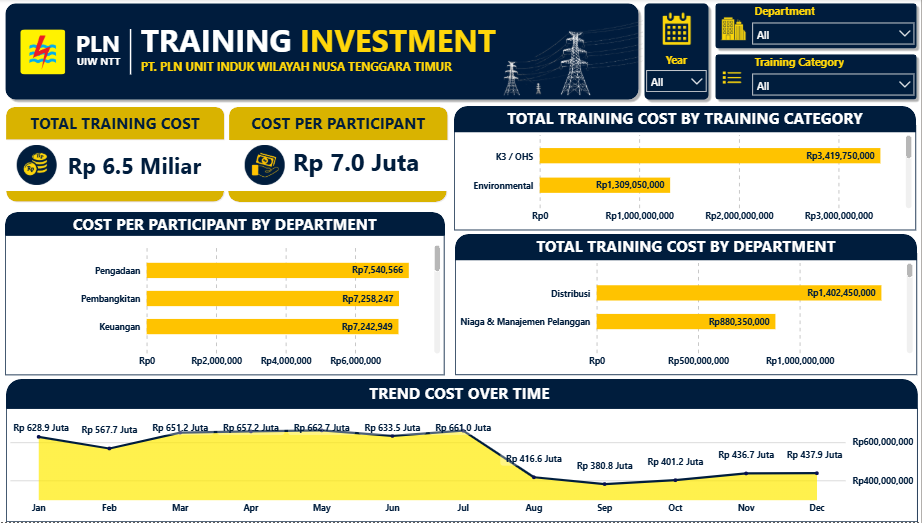

This screenshot's page, from the dashboard's own definition file:
{"tool":"powerbi","page":{"name":"Training Investment","canvas":[1280,720],"ordinal":4},"visuals":[{"type":"shape","box":[13.8,0,883.6,144.5],"z":0},{"type":"shape","box":[893.2,0,100.5,144.5],"z":0,"group":"g6"},{"type":"shape","box":[20.6,523.4,1255.2,41.4],"z":0,"group":"g16"},{"type":"image","box":[550.1,151.7,62.4,37.2],"z":1000},{"type":"textbox","box":[30.7,522.8,1229.1,53.7],"z":1000,"group":"g16"},{"type":"image","box":[38.5,41.3,66.1,63.3],"z":2000},{"type":"textbox","box":[111.5,33,83.5,52.6],"z":3000,"group":"g10"},{"type":"group","id":"g1","title":"Group 3","box":[17.8,147.6,309.6,133.5],"z":3000},{"type":"textbox","box":[112.3,69.8,75.2,36.8],"z":4000,"group":"g10"},{"type":"group","id":"g2","title":"Group 3","box":[324.7,147.6,310.2,133.5],"z":4000},{"type":"image","box":[703.3,2.8,194.1,154.2],"z":5000},{"type":"shape","box":[184.4,41.5,15.3,62.6],"z":5000,"group":"g12"},{"type":"textbox","box":[200.3,22,567.1,70.2],"z":6000,"group":"g12"},{"type":"cardVisual","title":"Total Employee","fields":{"Data":["FactTraining.CPP"]},"box":[385.8,172.1,268.8,100],"z":6000},{"type":"textbox","box":[200.5,76.7,442.6,45.7],"z":7000,"group":"g12"},{"type":"textbox","box":[325.1,151.7,307.1,49.5],"z":7000},{"type":"clusteredBarChart","fields":{"Y":["Sum(FactTraining.TrainingCost)"],"Category":["DimTraining.TrainingCategory"]},"box":[638,174,635.9,144.5],"z":8000,"group":"g4"},{"type":"cardVisual","title":"Total Employee","fields":{"Data":["FactTraining.Total Training Cost"]},"box":[76,176.2,256,100.5],"z":8000},{"type":"clusteredBarChart","fields":{"Category":["DimEmployee.Department"],"Y":["FactTraining.Cost per Participant"]},"box":[19.3,324.5,604.8,193],"z":8000,"group":"g3"},{"type":"shape","box":[17.8,187.4,309.6,78.2],"z":9000,"group":"g1"},{"type":"shape","box":[324.7,187.5,310.2,78.5],"z":9000,"group":"g2"},{"type":"clusteredBarChart","fields":{"Category":["DimEmployee.Department"],"Y":["Sum(FactTraining.TrainingCost)"]},"box":[638.6,349.6,635.9,167.9],"z":9000},{"type":"group","id":"g3","title":"Group 2","box":[19.3,290.4,605.6,227.1],"z":10000},{"type":"image","box":[33.8,201.1,57.6,54.9],"z":11000},{"type":"group","id":"g4","title":"Group 2","box":[637.5,144.4,636.4,174.1],"z":12000},{"type":"shape","box":[19.8,147.6,303.4,48],"z":12000,"group":"g1"},{"type":"shape","box":[326.7,147.6,304,48.2],"z":12000,"group":"g2"},{"type":"group","id":"g5","title":"Group 7","box":[991,0,289,74.3],"z":13000,"group":"g8"},{"type":"textbox","box":[18.2,151.7,306.5,49.4],"z":13000},{"type":"group","id":"g6","title":"Group 5","box":[892,0,101.7,154.2],"z":14000},{"type":"group","id":"g7","title":"Group 7","box":[991,69.9,289,74.6],"z":14000,"group":"g8"},{"type":"group","id":"g8","title":"Group 6","box":[991,0,289,144.5],"z":15000},{"type":"image","box":[992.4,17.2,58.6,48.6],"z":15000,"group":"g8"},{"type":"shape","box":[324.7,263.2,304,17.9],"z":15000,"group":"g2"},{"type":"shape","box":[18.6,263.3,302.9,17.8],"z":15000,"group":"g1"},{"type":"group","id":"g9","title":"Group 4","box":[991,0,289,74.3],"z":16000,"group":"g13"},{"type":"image","box":[900.2,8.3,86.7,64.7],"z":16000,"group":"g6"},{"type":"group","id":"g10","title":"Group 9","box":[111.5,33,84,74.3],"z":16000},{"type":"group","id":"g11","title":"Group 4","box":[991,69.9,289,74.3],"z":16000,"group":"g14"},{"type":"shape","box":[637.5,147.2,635.9,36.5],"z":16000,"group":"g4"},{"type":"shape","box":[19.3,292.9,605.6,32.8],"z":16000,"group":"g3"},{"type":"group","id":"g12","title":"Group 10","box":[184.4,22,583.6,100.5],"z":17000},{"type":"image","box":[1001.9,81,36.4,53.9],"z":17000,"group":"g8"},{"type":"textbox","box":[638.8,144.4,633.4,50.6],"z":17000,"group":"g4"},{"type":"textbox","box":[20.5,290.4,603.2,45.4],"z":17000,"group":"g3"},{"type":"shape","box":[638.1,323.1,635.9,36.5],"z":18000},{"type":"shape","box":[991,0,289,74.3],"z":19000,"group":"g9"},{"type":"shape","box":[991,69.9,289,74.3],"z":19000,"group":"g11"},{"type":"textbox","box":[639.4,320.2,633.4,50.6],"z":19000},{"type":"group","id":"g13","title":"Group 8","box":[991,0,289,74.3],"z":19001,"group":"g5"},{"type":"group","id":"g14","title":"Group 8","box":[991,69.9,289,74.3],"z":19001,"group":"g7"},{"type":"slicer","fields":{"Values":["DimEmployee.Department"]},"box":[1038.4,5.2,238,58],"z":20000,"group":"g9"},{"type":"slicer","fields":{"Values":["DimTraining.TrainingCategory"]},"box":[1038.4,75.1,238,58],"z":20000,"group":"g11"},{"type":"group","id":"g15","title":"Group 11","box":[20.6,522.8,1255.5,197],"z":20000},{"type":"lineChart","title":".","fields":{"Category":["DimDate.Month"],"Y":["Sum(FactTraining.TrainingCost)"]},"box":[21.1,562.9,1255,156.9],"z":20000,"group":"g15"},{"type":"image","box":[348.2,200.9,57.8,55.1],"z":21000},{"type":"slicer","title":"Year","fields":{"Values":["DimDate.Year"]},"box":[892,72.9,97.7,81.2],"z":21500,"group":"g6"},{"type":"group","id":"g16","title":"Group 1","box":[20.6,522.8,1255.2,53.7],"z":21500,"group":"g15"}]}

Visuals, with their boxes in screenshot pixels (x1, y1, x2, y2), scaled from the page's 1280x720 canvas onto the 922x523 screenshot:
shape: x1=10, y1=0, x2=646, y2=105
shape: x1=643, y1=0, x2=716, y2=105
shape: x1=15, y1=380, x2=919, y2=410
image: x1=396, y1=110, x2=441, y2=137
textbox: x1=22, y1=380, x2=907, y2=419
image: x1=28, y1=30, x2=75, y2=76
textbox: x1=80, y1=24, x2=140, y2=62
"Group 3" group: x1=13, y1=107, x2=236, y2=204
textbox: x1=81, y1=51, x2=135, y2=77
"Group 3" group: x1=234, y1=107, x2=457, y2=204
image: x1=507, y1=2, x2=646, y2=114
shape: x1=133, y1=30, x2=144, y2=76
textbox: x1=144, y1=16, x2=553, y2=67
"Total Employee" cardVisual: x1=278, y1=125, x2=472, y2=198
textbox: x1=144, y1=56, x2=463, y2=89
textbox: x1=234, y1=110, x2=455, y2=146
clusteredBarChart - Sum(FactTraining.TrainingCost) x DimTraining.TrainingCategory: x1=460, y1=126, x2=918, y2=231
"Total Employee" cardVisual: x1=55, y1=128, x2=239, y2=201
clusteredBarChart - DimEmployee.Department x FactTraining.Cost per Participant: x1=14, y1=236, x2=450, y2=376
shape: x1=13, y1=136, x2=236, y2=193
shape: x1=234, y1=136, x2=457, y2=193
clusteredBarChart - DimEmployee.Department x Sum(FactTraining.TrainingCost): x1=460, y1=254, x2=918, y2=376
"Group 2" group: x1=14, y1=211, x2=450, y2=376
image: x1=24, y1=146, x2=66, y2=186
"Group 2" group: x1=459, y1=105, x2=918, y2=231
shape: x1=14, y1=107, x2=233, y2=142
shape: x1=235, y1=107, x2=454, y2=142
"Group 7" group: x1=714, y1=0, x2=921, y2=54
textbox: x1=13, y1=110, x2=234, y2=146
"Group 5" group: x1=643, y1=0, x2=716, y2=112
"Group 7" group: x1=714, y1=51, x2=921, y2=105
"Group 6" group: x1=714, y1=0, x2=921, y2=105
image: x1=715, y1=12, x2=757, y2=48
shape: x1=234, y1=191, x2=453, y2=204
shape: x1=13, y1=191, x2=232, y2=204
"Group 4" group: x1=714, y1=0, x2=921, y2=54
image: x1=648, y1=6, x2=711, y2=53
"Group 9" group: x1=80, y1=24, x2=141, y2=78
"Group 4" group: x1=714, y1=51, x2=921, y2=105
shape: x1=459, y1=107, x2=917, y2=133
shape: x1=14, y1=213, x2=450, y2=237
"Group 10" group: x1=133, y1=16, x2=553, y2=89
image: x1=722, y1=59, x2=748, y2=98
textbox: x1=460, y1=105, x2=916, y2=142
textbox: x1=15, y1=211, x2=449, y2=244
shape: x1=460, y1=235, x2=918, y2=261
shape: x1=714, y1=0, x2=921, y2=54
shape: x1=714, y1=51, x2=921, y2=105
textbox: x1=461, y1=233, x2=917, y2=269
"Group 8" group: x1=714, y1=0, x2=921, y2=54
"Group 8" group: x1=714, y1=51, x2=921, y2=105
slicer - DimEmployee.Department: x1=748, y1=4, x2=919, y2=46
slicer - DimTraining.TrainingCategory: x1=748, y1=55, x2=919, y2=97
"Group 11" group: x1=15, y1=380, x2=919, y2=522
"." lineChart: x1=15, y1=409, x2=919, y2=522
image: x1=251, y1=146, x2=292, y2=186
"Year" slicer: x1=643, y1=53, x2=713, y2=112
"Group 1" group: x1=15, y1=380, x2=919, y2=419
